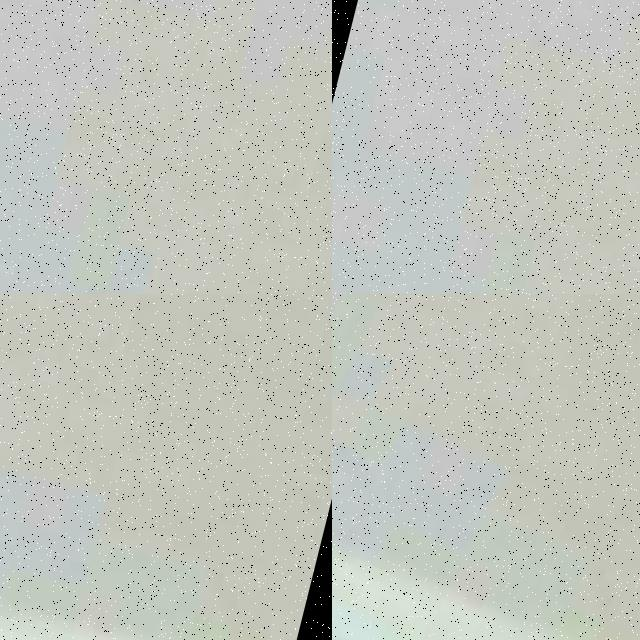drone: (332, 294, 640, 640)
